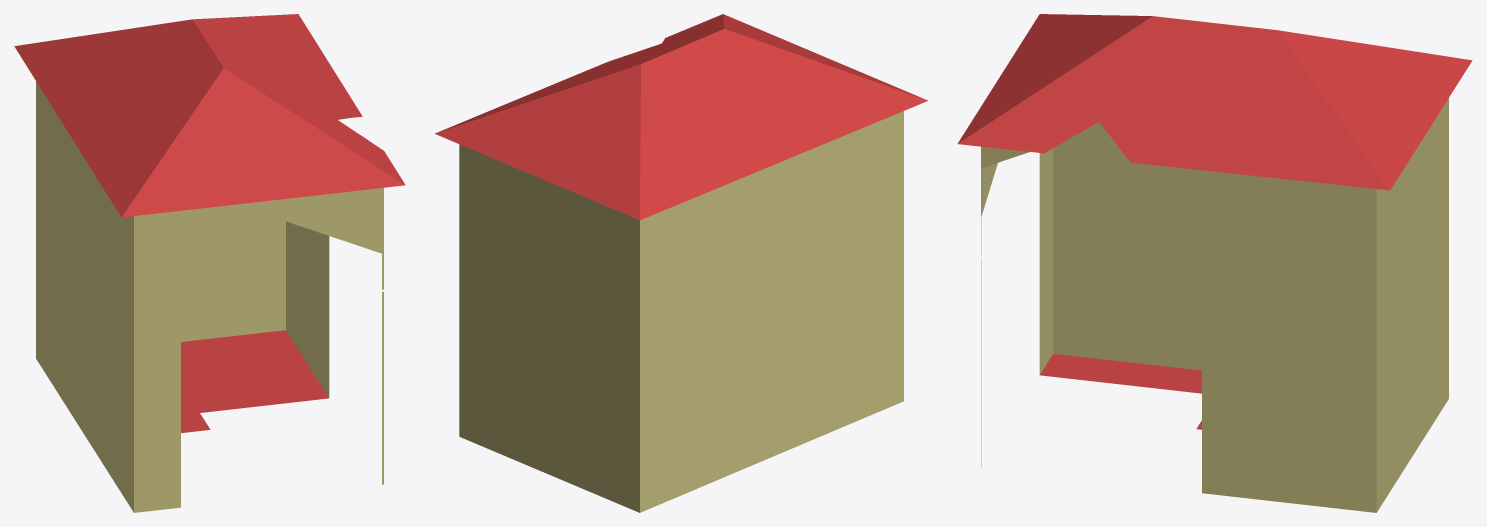
The picture shows the model from 3 angles, left to right: view 1: azimuth 30°, elevation 25°; view 2: azimuth 150°, elevation 25°; view 3: azimuth 270°, elevation 25°; orthographic projection. The views are drawn at different scales.
Size of the model in its own units: 16.55 by 20.13 by 17.65.
